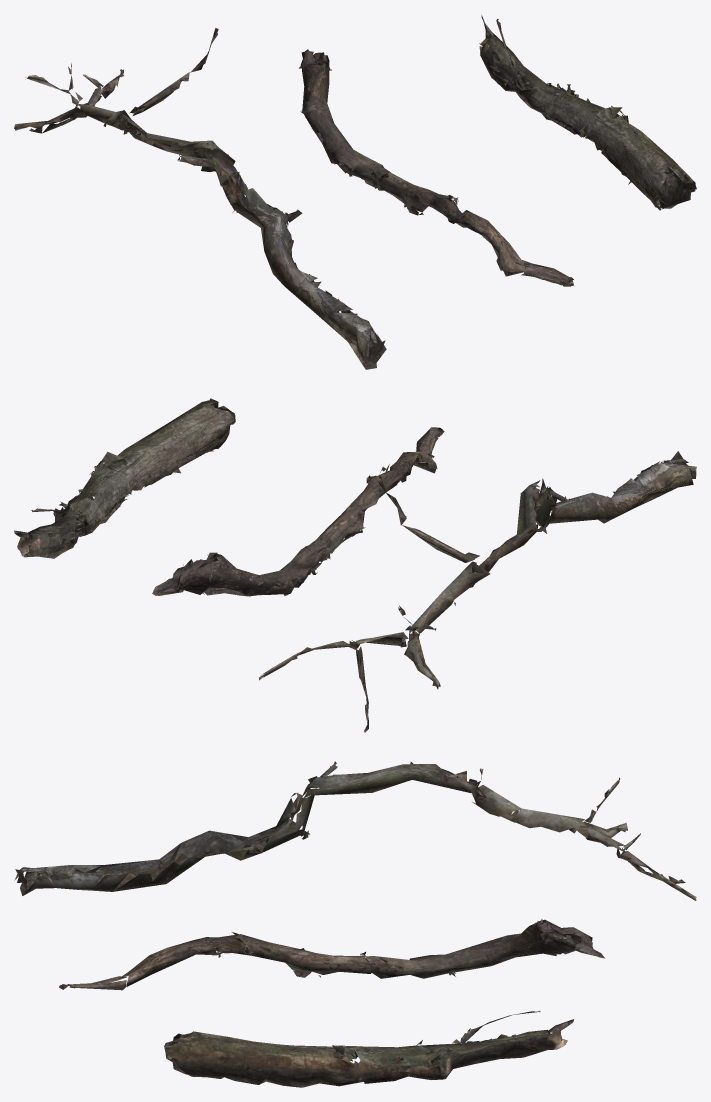
The model's file is dry_branches_medium_01.glb.
3 views of the same model, one above another, from view 1: azimuth 30°, elevation 25°; view 2: azimuth 150°, elevation 25°; view 3: azimuth 270°, elevation 25° (orthographic). The views are drawn at different scales.
Parts seen in each view (by area): view 1: dry_branches_medium_01_a, dry_branches_medium_01_c, dry_branches_medium_01_b; view 2: dry_branches_medium_01_a, dry_branches_medium_01_c, dry_branches_medium_01_b; view 3: dry_branches_medium_01_a, dry_branches_medium_01_c, dry_branches_medium_01_b.
Part boxes in pixels (bbox=[...]): dry_branches_medium_01_a: bbox=[14, 28, 386, 369]; dry_branches_medium_01_c: bbox=[479, 15, 696, 210]; dry_branches_medium_01_b: bbox=[299, 49, 574, 286]; dry_branches_medium_01_a: bbox=[259, 451, 696, 732]; dry_branches_medium_01_c: bbox=[14, 398, 235, 558]; dry_branches_medium_01_b: bbox=[152, 427, 444, 596]; dry_branches_medium_01_a: bbox=[14, 761, 696, 900]; dry_branches_medium_01_c: bbox=[164, 1010, 573, 1087]; dry_branches_medium_01_b: bbox=[59, 919, 605, 990].
Bounding box in the file's own units: 1.06 × 0.3366 × 1.3.
1 material, 1 textured.
